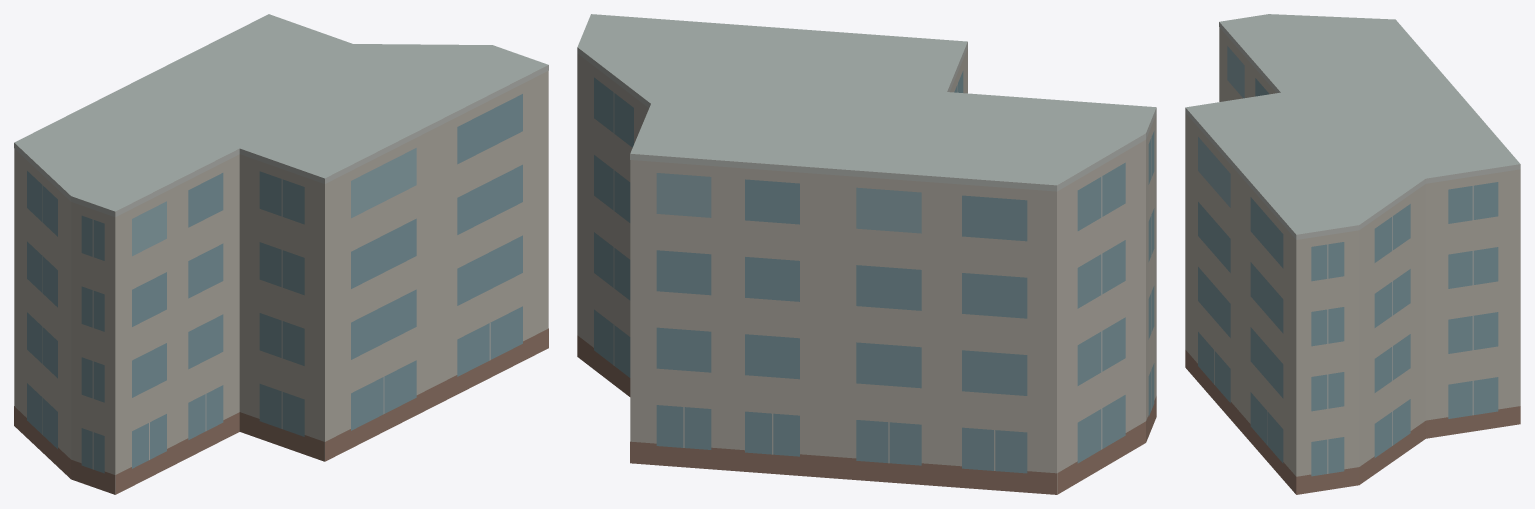
The model's file is residential-aa025331-4136-4873-b603-e7fd186844b0.glb.
3 renders of one model, left to right at view 1: azimuth 30°, elevation 25°; view 2: azimuth 150°, elevation 25°; view 3: azimuth 270°, elevation 25°, orthographic. The views are drawn at different scales.
Parts seen in each view (by area): view 1: residential-aa025331-4136-4873-b603-e7fd186844b0.tmp; view 2: residential-aa025331-4136-4873-b603-e7fd186844b0.tmp; view 3: residential-aa025331-4136-4873-b603-e7fd186844b0.tmp.
Boxes of the visible parts, bbox=[...] form: residential-aa025331-4136-4873-b603-e7fd186844b0.tmp: bbox=[14, 14, 548, 494]; residential-aa025331-4136-4873-b603-e7fd186844b0.tmp: bbox=[577, 14, 1156, 494]; residential-aa025331-4136-4873-b603-e7fd186844b0.tmp: bbox=[1185, 14, 1520, 494].
Bounding box in the file's own units: 22.22 × 12.2 × 14.26.
